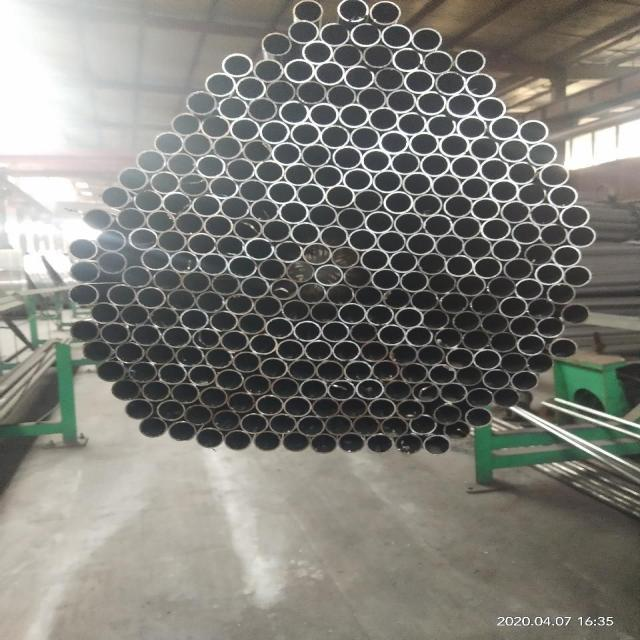pipe: (204, 71, 237, 97), (185, 89, 216, 115), (454, 48, 485, 74), (317, 22, 350, 46), (257, 119, 290, 143), (80, 338, 113, 362), (489, 114, 519, 140), (349, 22, 380, 47), (368, 0, 400, 24), (260, 31, 292, 55), (151, 131, 183, 155), (134, 148, 166, 172), (245, 97, 277, 121), (143, 209, 175, 233), (311, 164, 343, 188), (464, 72, 496, 96), (424, 114, 456, 138), (377, 129, 409, 153), (361, 44, 394, 67), (518, 118, 548, 143), (221, 53, 252, 77), (301, 40, 332, 64), (283, 58, 314, 82), (211, 135, 242, 159), (194, 154, 225, 178), (296, 80, 327, 104), (277, 100, 308, 124), (392, 47, 423, 71), (337, 103, 368, 127), (331, 145, 362, 169), (446, 93, 477, 117), (455, 115, 486, 139), (558, 204, 589, 228), (82, 207, 114, 230), (381, 190, 413, 213), (336, 0, 369, 22), (499, 137, 528, 162), (314, 61, 344, 85), (241, 138, 271, 162), (416, 92, 446, 116), (475, 95, 505, 119), (437, 133, 467, 157), (390, 151, 420, 175), (479, 158, 509, 182), (546, 184, 576, 208), (335, 206, 365, 230), (117, 167, 148, 190), (149, 170, 180, 193), (411, 27, 442, 50), (402, 69, 433, 92), (440, 194, 471, 217), (168, 112, 200, 134), (67, 283, 99, 305), (96, 230, 128, 252), (299, 144, 331, 166), (248, 199, 280, 221), (110, 378, 142, 400), (454, 274, 486, 296), (184, 132, 213, 156), (320, 124, 349, 148), (435, 71, 464, 95), (397, 111, 426, 135), (527, 141, 556, 165), (363, 210, 392, 234), (332, 44, 362, 67), (225, 158, 255, 181), (290, 122, 320, 145), (202, 214, 232, 237), (404, 232, 434, 255), (99, 186, 130, 208), (131, 190, 162, 212), (96, 251, 127, 273), (228, 119, 259, 141), (178, 173, 209, 195), (121, 265, 152, 287), (151, 268, 182, 290), (355, 87, 386, 109), (213, 235, 244, 257), (418, 154, 449, 176), (516, 183, 547, 205), (509, 221, 540, 243), (239, 276, 270, 298), (468, 136, 496, 160), (174, 212, 203, 235), (460, 176, 489, 199), (269, 277, 298, 300), (292, 0, 322, 22), (288, 20, 318, 42), (65, 237, 95, 259), (69, 260, 99, 282), (166, 154, 196, 176), (115, 208, 145, 230), (161, 191, 191, 213), (127, 227, 157, 249), (105, 284, 135, 306), (140, 248, 170, 270), (380, 25, 410, 47), (344, 66, 374, 88), (326, 85, 356, 107), (136, 286, 166, 308), (119, 304, 149, 326), (372, 68, 402, 90), (233, 218, 263, 240), (182, 270, 212, 292), (148, 306, 178, 328), (114, 341, 144, 363), (422, 51, 452, 73), (384, 90, 414, 112), (349, 127, 379, 149), (161, 326, 191, 348), (406, 132, 436, 154), (449, 156, 479, 178), (539, 164, 569, 186), (400, 172, 430, 194), (431, 174, 461, 196), (353, 189, 383, 211), (499, 200, 529, 222), (530, 203, 560, 225), (393, 212, 423, 234), (452, 216, 482, 238), (490, 238, 520, 260), (534, 263, 564, 285), (484, 275, 514, 297), (546, 282, 576, 304), (297, 281, 327, 303), (409, 289, 439, 311), (496, 296, 526, 318), (392, 306, 422, 328), (432, 327, 462, 349), (415, 344, 445, 366), (202, 346, 232, 368), (314, 360, 344, 382), (337, 397, 368, 418), (157, 229, 185, 252), (221, 196, 249, 219), (325, 185, 353, 208), (539, 223, 567, 246), (291, 222, 319, 245), (69, 319, 98, 341), (218, 97, 247, 119), (266, 81, 295, 103), (209, 176, 238, 198), (191, 194, 220, 216), (308, 103, 337, 125), (272, 142, 301, 164), (254, 161, 283, 183), (237, 179, 266, 201), (187, 232, 216, 254), (169, 250, 198, 272), (283, 163, 312, 185), (131, 324, 160, 346), (369, 108, 398, 130), (179, 308, 208, 330), (146, 343, 175, 365), (126, 360, 155, 382), (360, 148, 389, 170), (343, 168, 372, 190), (373, 170, 402, 192), (413, 194, 442, 216), (471, 197, 500, 219), (308, 204, 337, 226), (423, 214, 452, 236), (319, 225, 348, 247), (330, 246, 359, 268), (359, 248, 388, 270), (472, 256, 501, 278), (502, 257, 531, 279), (314, 264, 343, 286), (514, 276, 543, 298), (325, 283, 354, 305), (381, 287, 410, 309), (470, 293, 499, 315), (452, 310, 481, 332), (403, 325, 432, 347), (231, 351, 260, 373), (509, 369, 538, 391), (198, 386, 227, 408), (351, 415, 380, 437), (298, 379, 328, 400), (307, 432, 337, 453), (288, 358, 315, 381), (94, 362, 125, 382), (254, 59, 282, 81), (296, 183, 324, 205), (279, 202, 307, 224), (245, 238, 273, 260), (195, 290, 223, 312), (508, 161, 536, 183), (488, 180, 516, 202), (566, 226, 594, 248), (348, 228, 376, 250), (376, 230, 404, 252), (435, 235, 463, 257), (464, 237, 492, 259), (302, 242, 330, 264), (416, 252, 444, 274), (563, 264, 591, 286), (343, 265, 371, 287), (400, 270, 428, 292), (427, 272, 455, 294), (336, 302, 364, 324), (366, 304, 394, 326), (536, 316, 564, 338), (264, 316, 292, 338), (348, 321, 376, 343), (516, 334, 544, 356), (248, 332, 276, 354), (445, 347, 473, 369), (343, 359, 371, 381), (327, 379, 355, 401), (384, 379, 412, 401), (170, 382, 198, 404), (268, 412, 296, 434), (296, 415, 324, 437), (394, 433, 422, 455), (261, 220, 290, 241), (480, 218, 509, 239), (524, 243, 553, 264), (552, 245, 581, 266), (280, 299, 309, 320), (258, 357, 287, 378), (432, 404, 461, 425), (167, 420, 196, 441), (198, 254, 228, 274), (165, 290, 195, 310), (507, 316, 537, 336), (461, 330, 491, 350), (158, 363, 188, 383), (253, 394, 283, 414), (155, 400, 185, 420), (137, 418, 167, 438), (251, 430, 281, 450), (237, 77, 264, 99), (228, 255, 255, 277), (275, 241, 302, 263), (389, 251, 416, 273), (258, 258, 285, 280), (372, 268, 399, 290), (528, 297, 555, 319), (216, 368, 243, 390), (282, 430, 309, 452), (445, 255, 473, 276), (286, 260, 314, 281), (209, 310, 237, 331), (237, 313, 265, 334), (226, 391, 254, 412), (240, 412, 268, 433), (380, 416, 408, 437), (99, 322, 128, 342), (200, 117, 229, 137), (439, 292, 468, 312), (224, 294, 253, 314), (252, 296, 281, 316), (291, 320, 320, 340), (376, 324, 405, 344), (488, 332, 517, 352), (548, 338, 577, 358), (192, 328, 221, 348), (472, 349, 501, 369), (371, 360, 400, 380), (481, 369, 510, 389), (242, 374, 271, 394), (410, 381, 439, 401), (310, 397, 339, 417), (464, 407, 493, 427), (268, 181, 294, 203), (355, 285, 381, 307), (523, 353, 553, 372), (221, 330, 248, 351), (276, 339, 303, 360), (332, 340, 359, 361), (271, 377, 298, 398), (196, 427, 223, 448), (90, 302, 118, 322), (210, 274, 238, 294), (560, 303, 588, 323), (421, 309, 449, 329), (480, 314, 508, 334), (304, 340, 332, 360), (388, 344, 416, 364), (175, 346, 203, 366), (399, 362, 427, 382), (187, 365, 215, 385), (355, 378, 383, 398), (142, 381, 170, 401), (283, 397, 311, 417), (368, 398, 396, 418), (124, 398, 152, 418), (184, 404, 212, 424), (365, 432, 393, 452), (321, 321, 348, 341), (500, 352, 527, 372), (428, 364, 455, 384), (396, 400, 423, 420), (324, 415, 351, 435), (223, 430, 250, 450), (464, 388, 492, 407), (311, 302, 337, 322), (361, 341, 387, 361), (440, 382, 466, 402), (213, 410, 239, 430), (410, 414, 436, 434), (423, 434, 449, 454), (455, 366, 482, 385), (338, 432, 363, 452), (493, 388, 520, 406), (444, 421, 470, 439)
